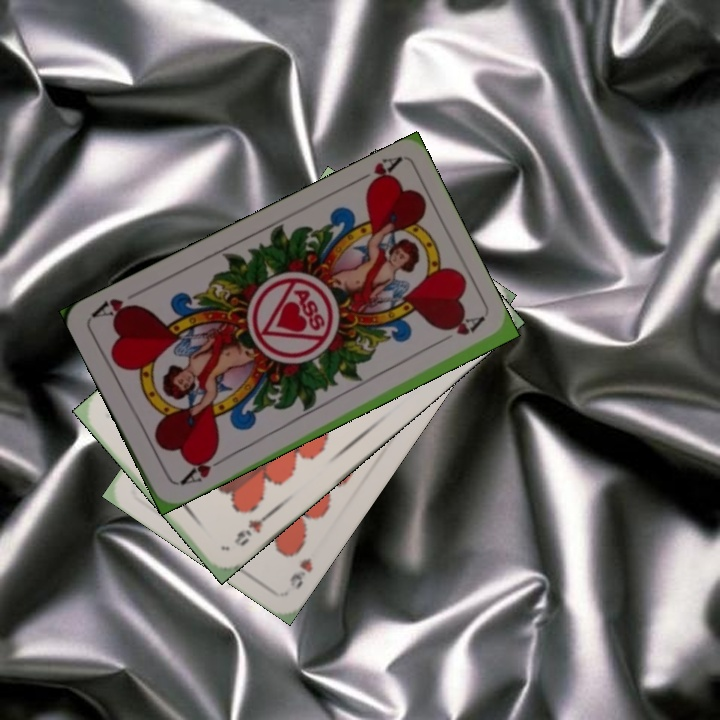H9: (229, 509, 273, 549), (285, 553, 316, 592)
HA: (347, 152, 403, 195), (173, 448, 228, 488)
